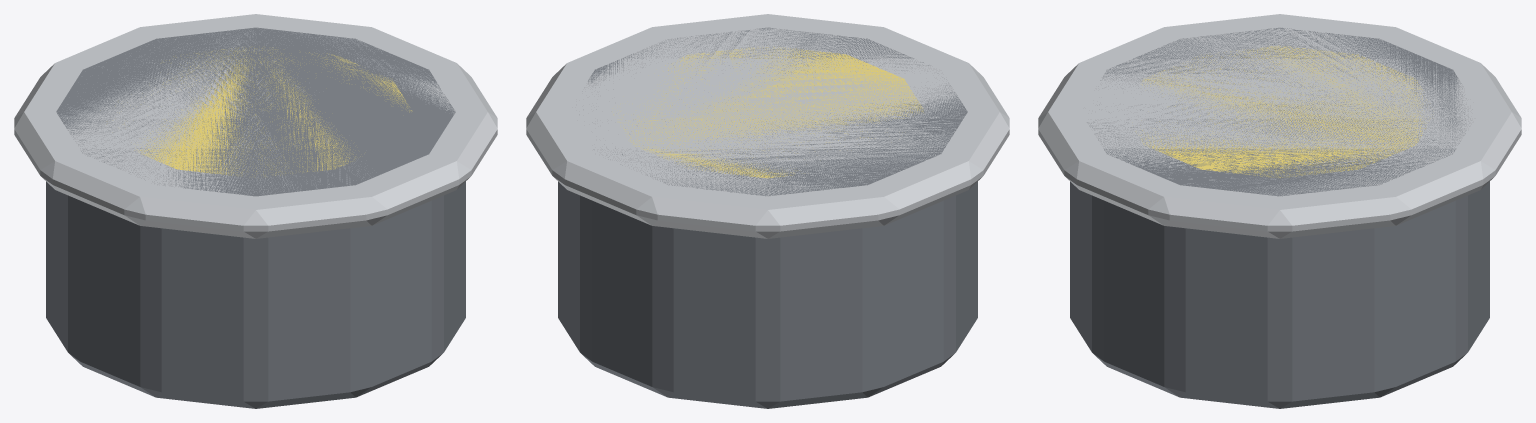
File: 灯具_地埋灯_01.fbx
3 views of the same model, side by side, from view 1: azimuth 30°, elevation 25°; view 2: azimuth 150°, elevation 25°; view 3: azimuth 270°, elevation 25° (orthographic).
Visible parts, largest first — view 1: 外壳, 边框, 灯面.001; view 2: 外壳, 边框, 灯面.001; view 3: 外壳, 边框, 灯面.001.
Boxes of the visible parts, x1,y1,x2,y2 form: 外壳: (46,27,465,408); 边框: (14,14,497,238); 灯面.001: (134,47,412,175); 外壳: (558,27,977,408); 边框: (526,14,1009,238); 灯面.001: (613,46,923,178); 外壳: (1070,27,1489,408); 边框: (1038,14,1521,238); 灯面.001: (1135,45,1430,177).
Bounding box in the file's own units: 45.38 × 22 × 45.38.
